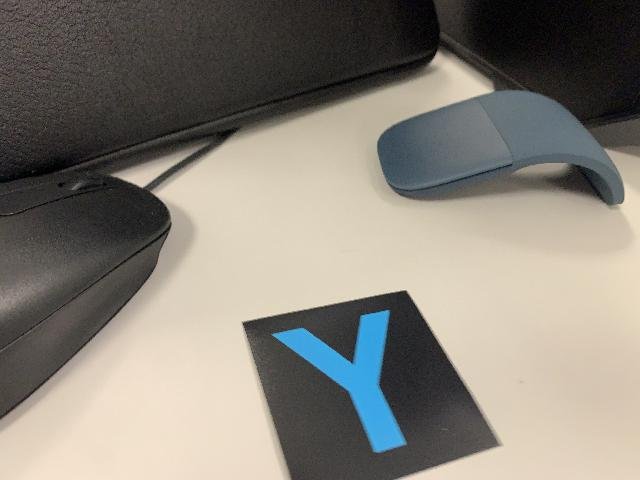alphabet_y: (239, 285, 505, 480)
